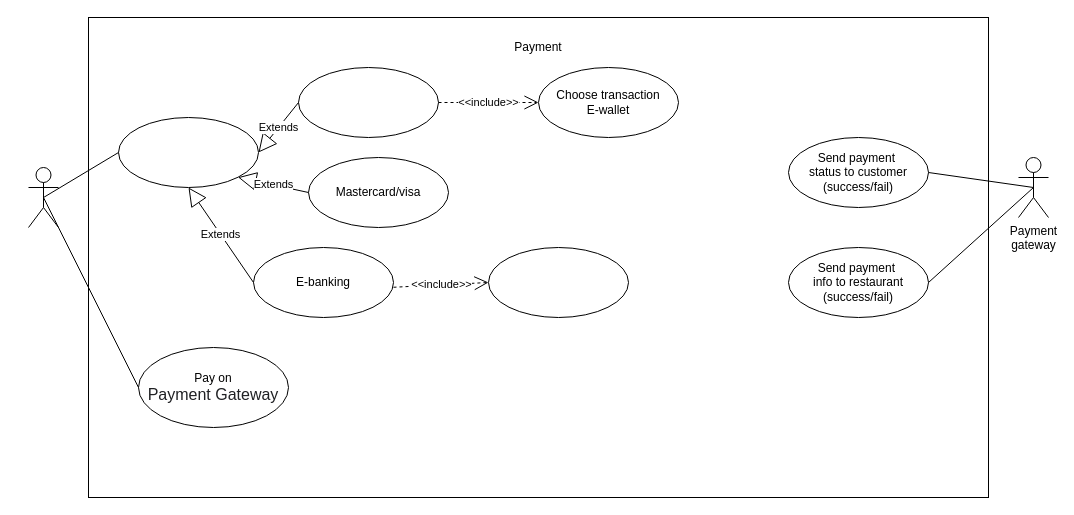
This 1074x515 diagram has some shape labels left out. Here are the shapes that lost their labels. From the top down, the box of each, then its label:
(298, 66, 438, 138): E-wallet
(118, 116, 258, 188): Choose Mode of payment
(28, 166, 58, 228): Customer
(488, 246, 628, 318): Choose transaction E-banking
